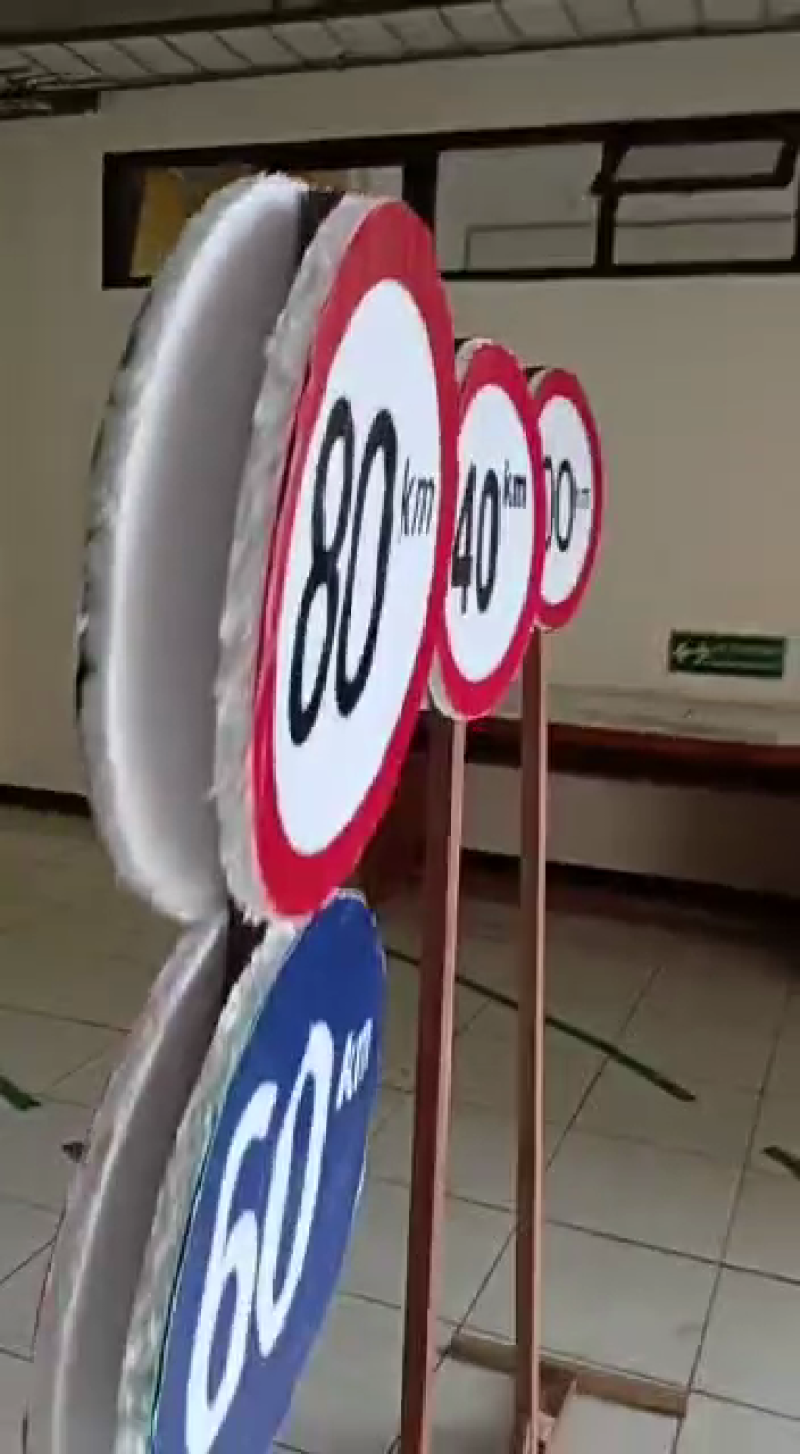batas maksimal 40kmperjam: (424, 335, 550, 740)
batas maksimal 80kmperjam minimal 60kmperjam: (113, 180, 466, 1454)
